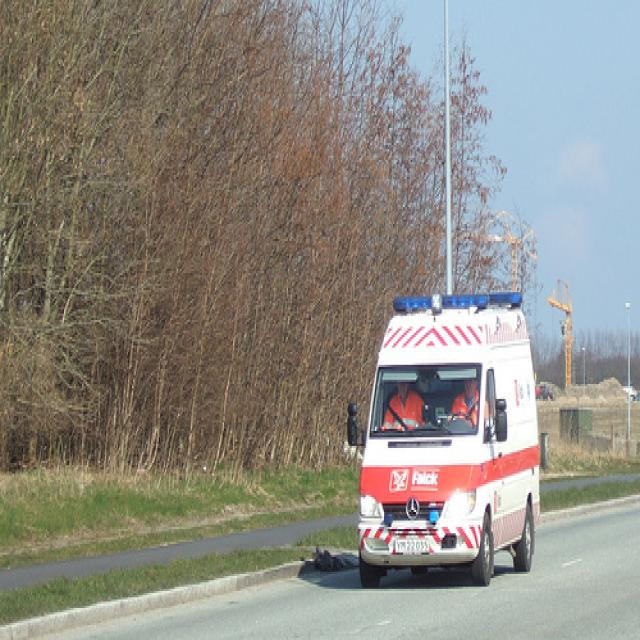emergency-vehicle: (356, 290, 538, 583)
